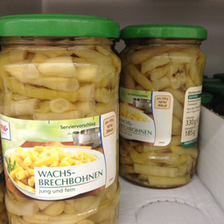beans: (1, 15, 121, 224), (123, 24, 203, 190)
